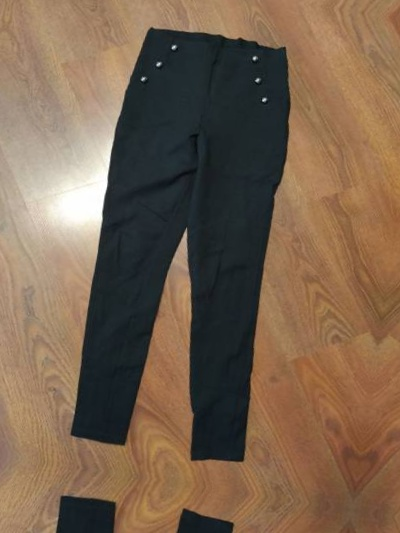Pants: (21, 12, 335, 481), (0, 475, 263, 533)
